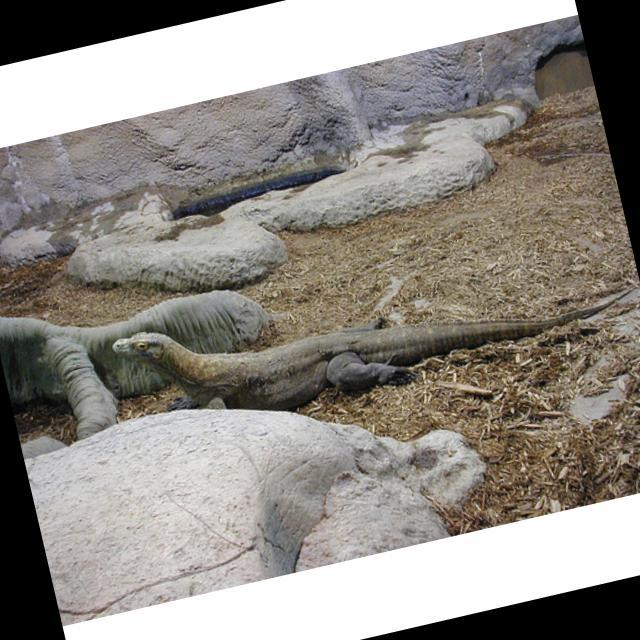KomodoDragon: (111, 216, 640, 450)
